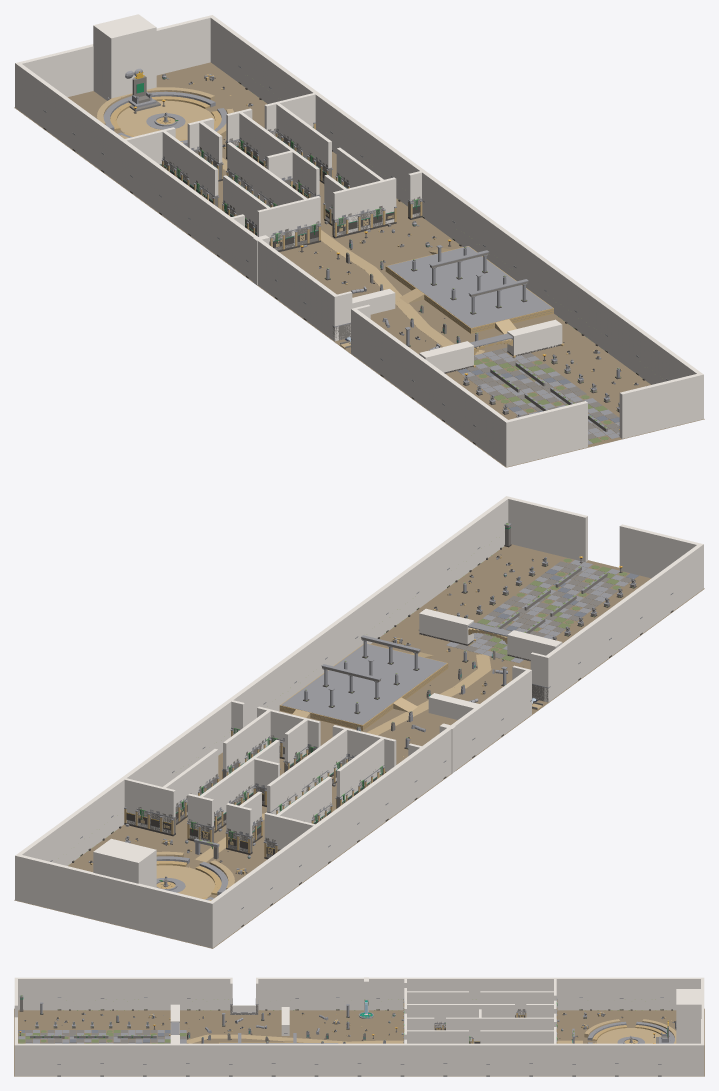
The model's file is CatCafe_Ruins_Set.glb.
3 views of the same model, one above another, from view 1: azimuth 30°, elevation 25°; view 2: azimuth 150°, elevation 25°; view 3: azimuth 270°, elevation 25° (orthographic). The views are drawn at different scales.
Visible parts, largest first — view 1: CatCafe_Ruins_Set_068_Walls_Barrier, CatCafe_Ruins_Set, CatCafe_Ruins_Set_087_GlyphHalls_Barrier, CatCafe_Ruins_Set_071_Stylobate, CatCafe_Ruins_Set_087_GlyphHalls, CatCafe_Ruins_Set_165_Colossus_Barrier, CatCafe_Ruins_Set_070_TriumphalArch_Barrier, CatCafe_Ruins_Set_088_CourtRings, CatCafe_Ruins_Set_086_Pediment_Barrier, CatCafe_Ruins_Set_090_Throne; view 2: CatCafe_Ruins_Set_068_Walls_Barrier, CatCafe_Ruins_Set, CatCafe_Ruins_Set_087_GlyphHalls_Barrier, CatCafe_Ruins_Set_071_Stylobate, CatCafe_Ruins_Set_087_GlyphHalls, CatCafe_Ruins_Set_070_TriumphalArch_Barrier, CatCafe_Ruins_Set_165_Colossus_Barrier, CatCafe_Ruins_Set_088_CourtRings, CatCafe_Ruins_Set_086_Pediment_Barrier; view 3: CatCafe_Ruins_Set_068_Walls_Barrier, CatCafe_Ruins_Set, CatCafe_Ruins_Set_087_GlyphHalls_Barrier, CatCafe_Ruins_Set_165_Colossus_Barrier, CatCafe_Ruins_Set_088_CourtRings, CatCafe_Ruins_Set_087_GlyphHalls, CatCafe_Ruins_Set_069_BridgeBay_Barrier, CatCafe_Ruins_Set_070_TriumphalArch_Barrier, CatCafe_Ruins_Set_086_Pediment_Barrier, CatCafe_Ruins_Set_071_Stylobate.
Boxes of the visible parts, left/top/right/bottom form: CatCafe_Ruins_Set_068_Walls_Barrier: left=15, top=15, right=703, bottom=467; CatCafe_Ruins_Set: left=14, top=62, right=704, bottom=467; CatCafe_Ruins_Set_087_GlyphHalls_Barrier: left=125, top=93, right=421, bottom=249; CatCafe_Ruins_Set_071_Stylobate: left=385, top=246, right=553, bottom=334; CatCafe_Ruins_Set_087_GlyphHalls: left=159, top=122, right=422, bottom=251; CatCafe_Ruins_Set_165_Colossus_Barrier: left=93, top=14, right=156, bottom=100; CatCafe_Ruins_Set_070_TriumphalArch_Barrier: left=419, top=319, right=562, bottom=372; CatCafe_Ruins_Set_088_CourtRings: left=97, top=87, right=233, bottom=146; CatCafe_Ruins_Set_086_Pediment_Barrier: left=352, top=289, right=395, bottom=314; CatCafe_Ruins_Set_090_Throne: left=128, top=71, right=160, bottom=111; CatCafe_Ruins_Set_068_Walls_Barrier: left=15, top=496, right=703, bottom=948; CatCafe_Ruins_Set: left=14, top=544, right=704, bottom=948; CatCafe_Ruins_Set_087_GlyphHalls_Barrier: left=124, top=700, right=421, bottom=857; CatCafe_Ruins_Set_071_Stylobate: left=279, top=643, right=448, bottom=730; CatCafe_Ruins_Set_087_GlyphHalls: left=124, top=727, right=386, bottom=859; CatCafe_Ruins_Set_070_TriumphalArch_Barrier: left=419, top=608, right=562, bottom=660; CatCafe_Ruins_Set_165_Colossus_Barrier: left=93, top=838, right=156, bottom=887; CatCafe_Ruins_Set_088_CourtRings: left=156, top=851, right=234, bottom=900; CatCafe_Ruins_Set_086_Pediment_Barrier: left=428, top=693, right=479, bottom=719; CatCafe_Ruins_Set_068_Walls_Barrier: left=14, top=977, right=704, bottom=1076; CatCafe_Ruins_Set: left=14, top=1008, right=704, bottom=1076; CatCafe_Ruins_Set_087_GlyphHalls_Barrier: left=404, top=979, right=556, bottom=1043; CatCafe_Ruins_Set_165_Colossus_Barrier: left=676, top=989, right=701, bottom=1043; CatCafe_Ruins_Set_088_CourtRings: left=584, top=1019, right=676, bottom=1043; CatCafe_Ruins_Set_087_GlyphHalls: left=401, top=997, right=559, bottom=1043; CatCafe_Ruins_Set_069_BridgeBay_Barrier: left=230, top=977, right=258, bottom=1014; CatCafe_Ruins_Set_070_TriumphalArch_Barrier: left=170, top=1004, right=179, bottom=1043; CatCafe_Ruins_Set_086_Pediment_Barrier: left=281, top=1007, right=289, bottom=1035; CatCafe_Ruins_Set_071_Stylobate: left=219, top=1040, right=338, bottom=1043.
Bounding box in the file's own units: 140 × 44.3 × 600.
Materials: 1 (1 with a texture image).
